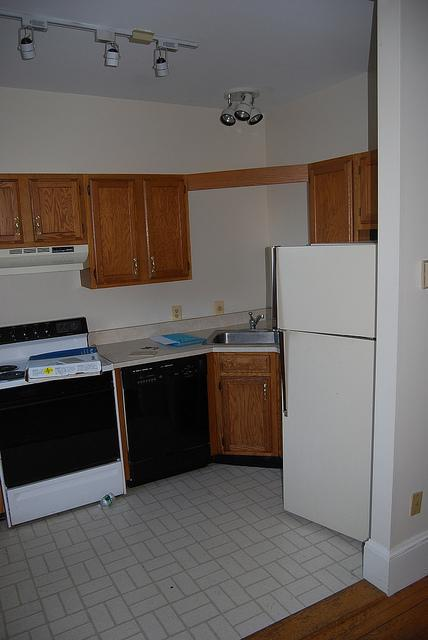Lavaplatos: (200, 304, 283, 352)
